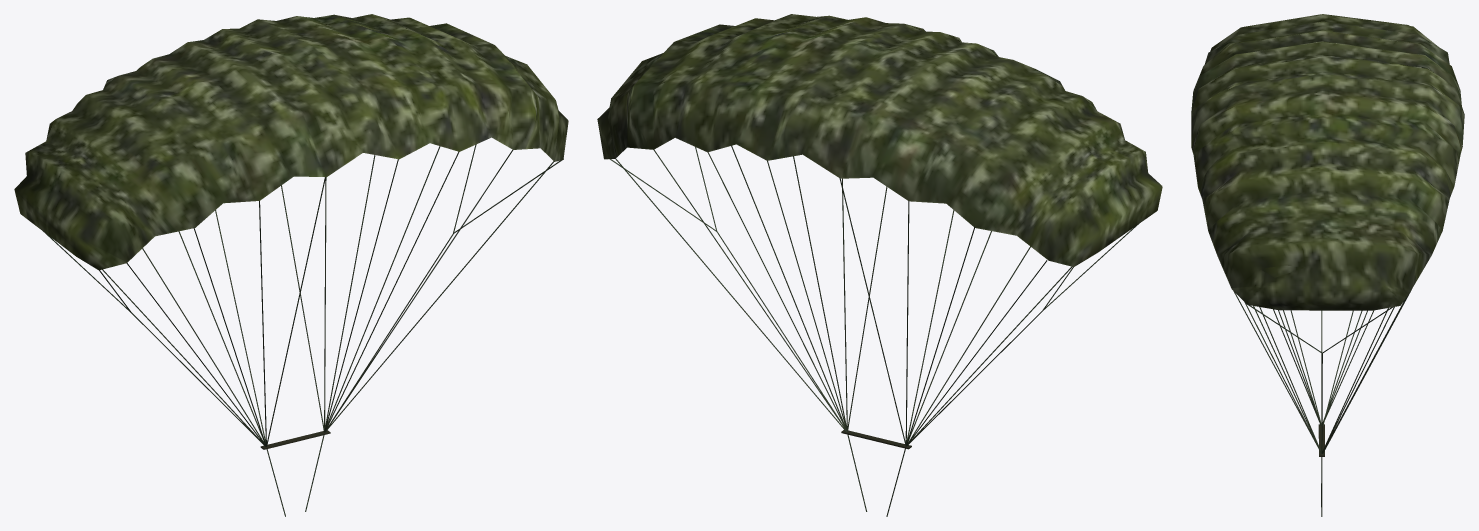
Rendered from parachute.lod1.glb.
3 views of the same model, side by side, from view 1: azimuth 30°, elevation 25°; view 2: azimuth 150°, elevation 25°; view 3: azimuth 270°, elevation 25° (orthographic). The views are drawn at different scales.
Parts seen in each view (by area): view 1: Parachute_Vehicle_AirDrop_Parachute04_D_0; view 2: Parachute_Vehicle_AirDrop_Parachute04_D_0; view 3: Parachute_Vehicle_AirDrop_Parachute04_D_0.
Part boxes in pixels (bbox=[...]): Parachute_Vehicle_AirDrop_Parachute04_D_0: bbox=[14, 14, 568, 516]; Parachute_Vehicle_AirDrop_Parachute04_D_0: bbox=[597, 14, 1162, 516]; Parachute_Vehicle_AirDrop_Parachute04_D_0: bbox=[1191, 14, 1464, 516].
Bounding box in the file's own units: 7.5 × 6.68 × 3.72.
1 material, 1 textured.
